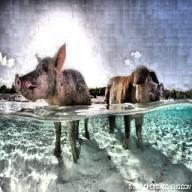boar: (14, 42, 91, 162)
